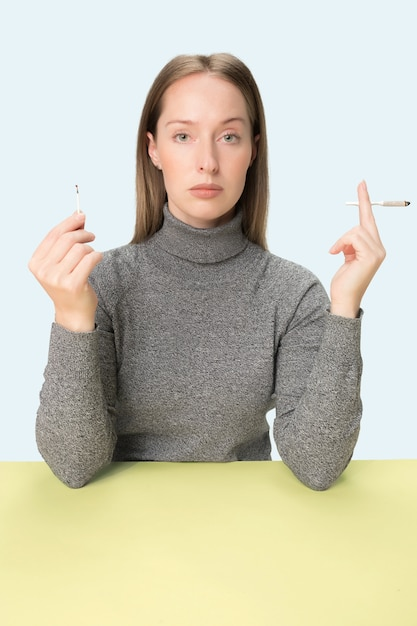cigarette: (343, 198, 413, 207)
